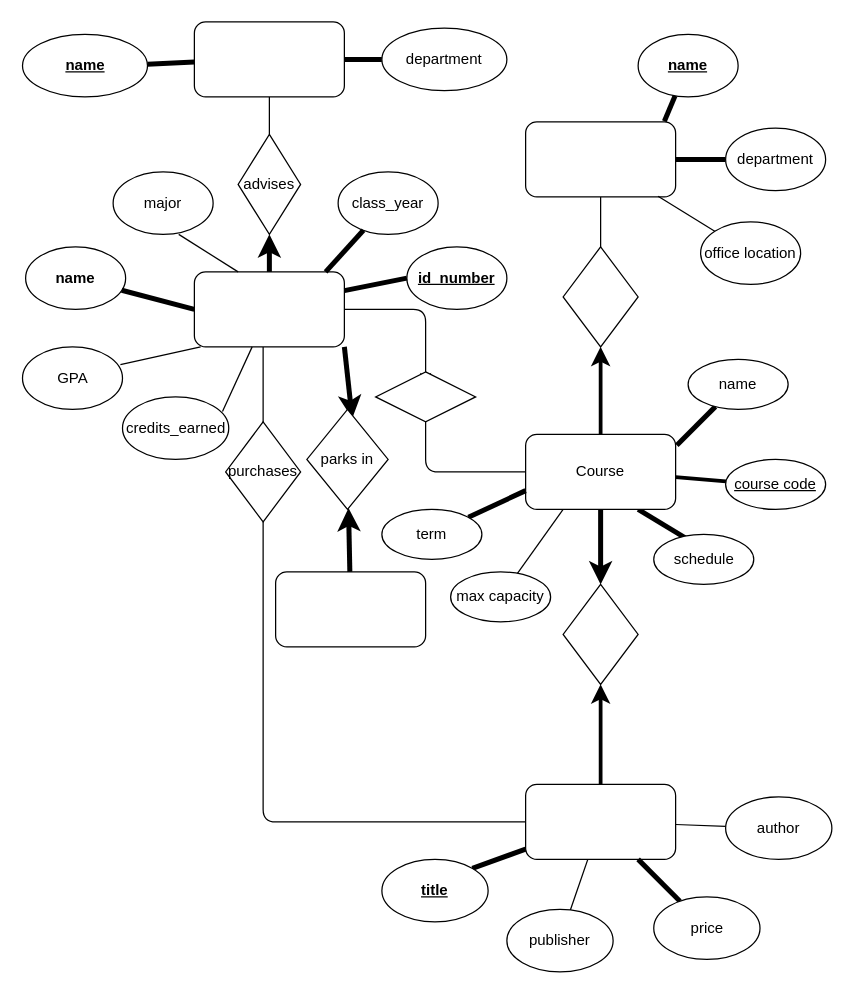
Image size: 854x994. Some labels were removed from this diagram. The shapes that lost their labels are listed below. From the top down, each one's centre as x and y in pixels, then its label:
At point (268, 59): "Academic Advisor".
At point (600, 159): "Instructor".
At point (268, 309): "student".
At point (600, 296): "teaches".
At point (425, 396): "enrolls in".
At point (350, 609): "parking space".
At point (600, 633): "uses".
At point (600, 821): "textbook".
